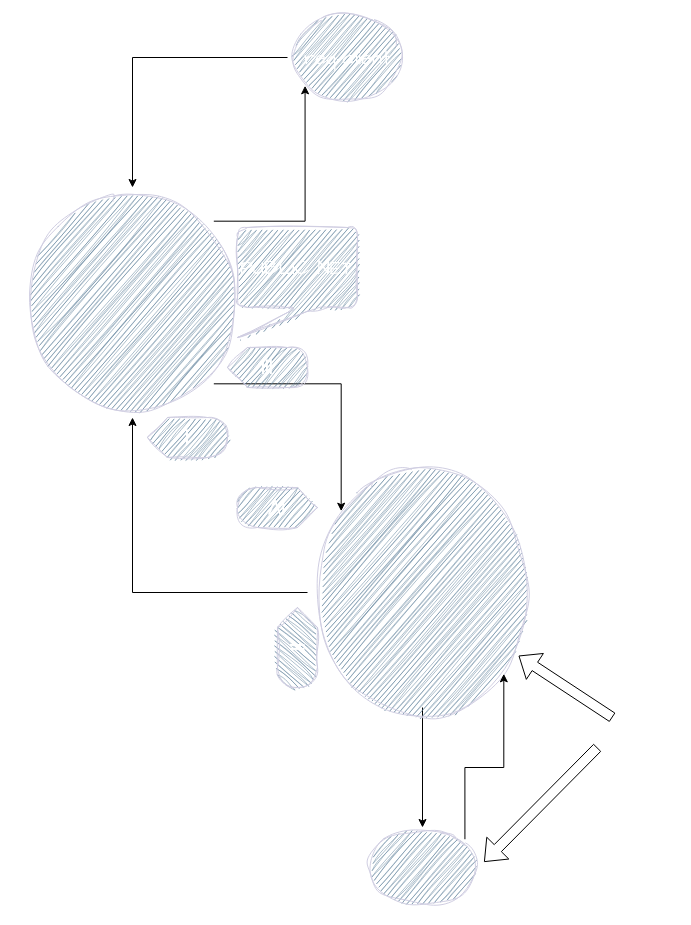
Image size: 691x925. Some labels were removed from this diagram. The shapes that lost their labels are listed below. From the top down, each one's box as (x1, y1, x2, y2) in pixels, then its label:
(16, 186, 248, 418): req-receive-server req-send-server
(306, 476, 538, 708): req-receive-client req-send-client
(362, 826, 482, 908): application
